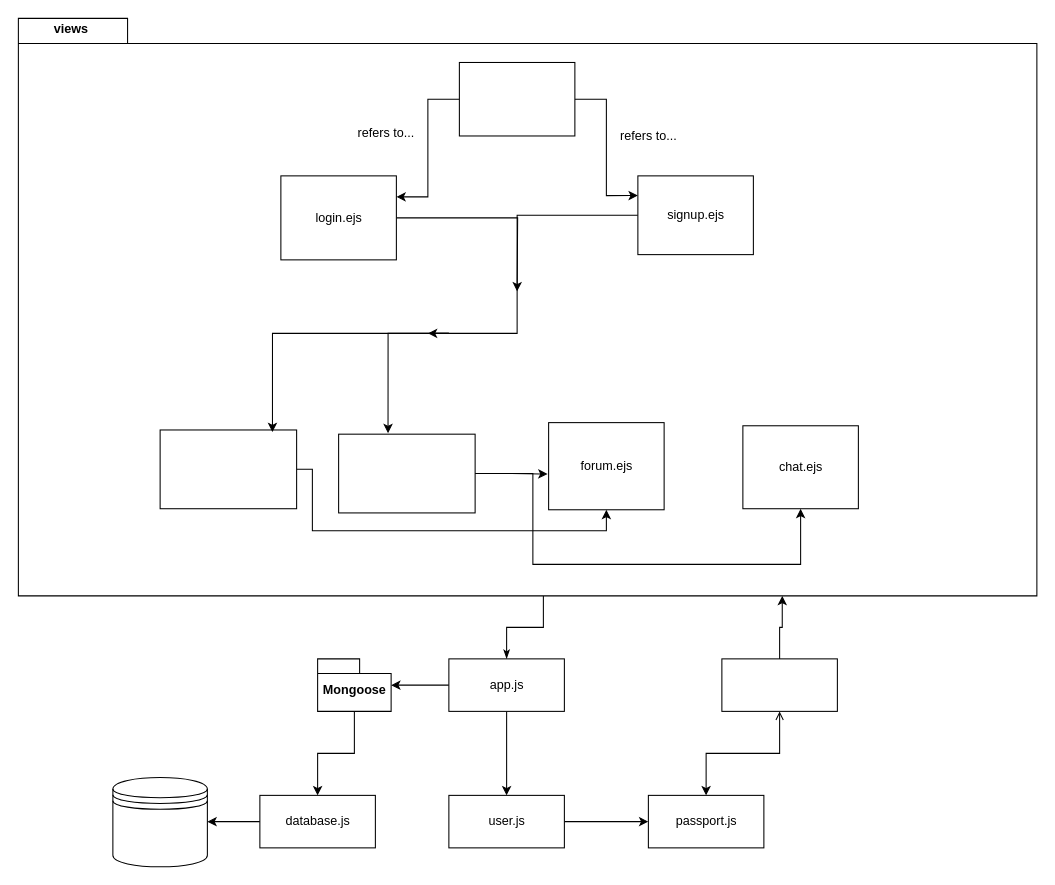
This 1055x885 diagram has some shape labels left out. Here are the shapes that lost their labels. From the top down, the centre of each, then its label:
At [516,98]: "index.ejs".
At [228,469]: "teacher-account.ejs".
At [406,473]: "student-account.ejs".
At [779,684]: "routes.js".
At [159,821]: "MongoDB local table 'main'".
